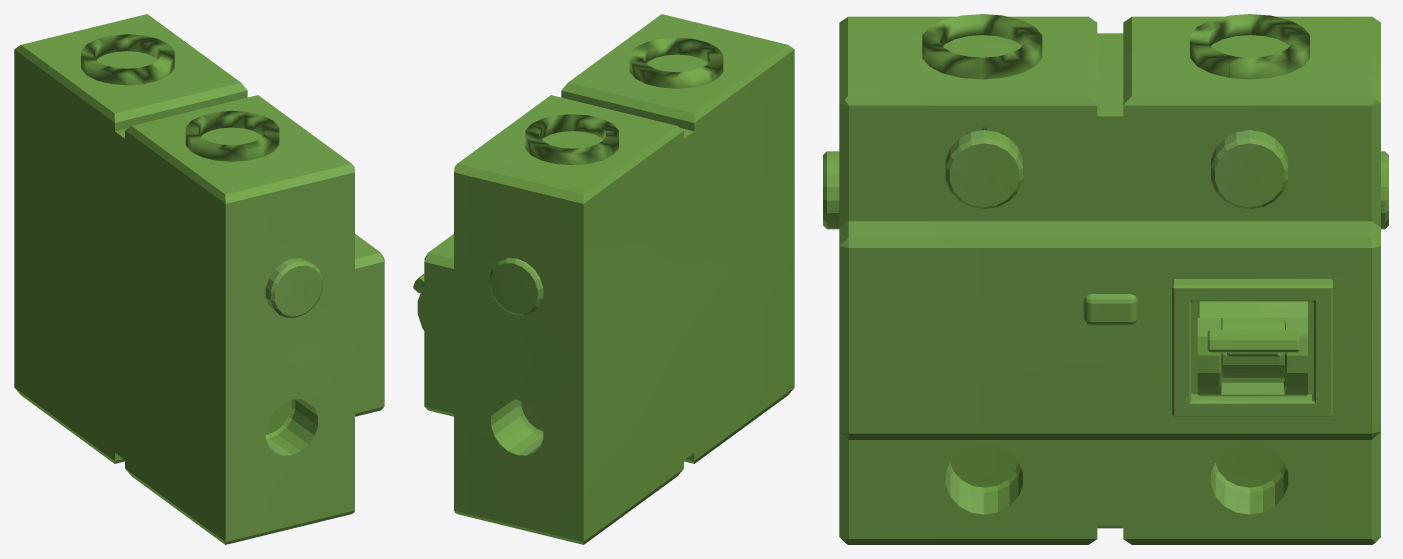
File: WallBox.fbx
3 renders of one model, left to right at view 1: azimuth 30°, elevation 25°; view 2: azimuth 150°, elevation 25°; view 3: azimuth 270°, elevation 25°, orthographic. The views are drawn at different scales.
Visible parts, largest first — view 1: Cube.008; view 2: Cube.008; view 3: Cube.008.
Part boxes in pixels (bbox=[...]): Cube.008: bbox=[14, 14, 384, 544]; Cube.008: bbox=[413, 14, 794, 544]; Cube.008: bbox=[823, 14, 1388, 544].
Size of the model in its own units: 58.69 by 102 by 111.
